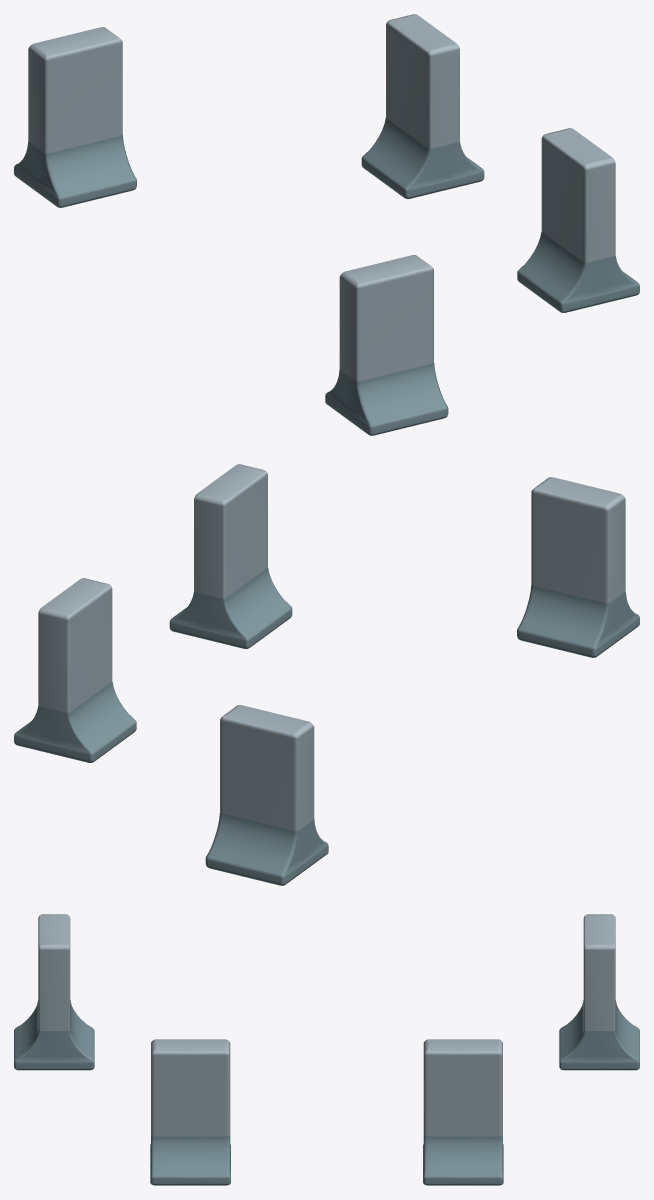
File: Props.fbx
3 renders of one model, top to bottom at view 1: azimuth 30°, elevation 25°; view 2: azimuth 150°, elevation 25°; view 3: azimuth 270°, elevation 25°, orthographic. The views are drawn at different scales.
Parts seen in each view (by area): view 1: 曲面单元 (×4); view 2: 曲面单元 (×4); view 3: 曲面单元 (×4).
Part boxes in pixels (x1,y1,x2,y2): 曲面单元 (×4): [14, 14, 639, 435]; 曲面单元 (×4): [14, 464, 639, 885]; 曲面单元 (×4): [14, 914, 639, 1185].
Bounding box in the file's own units: 12.95 × 5.02 × 22.96.
